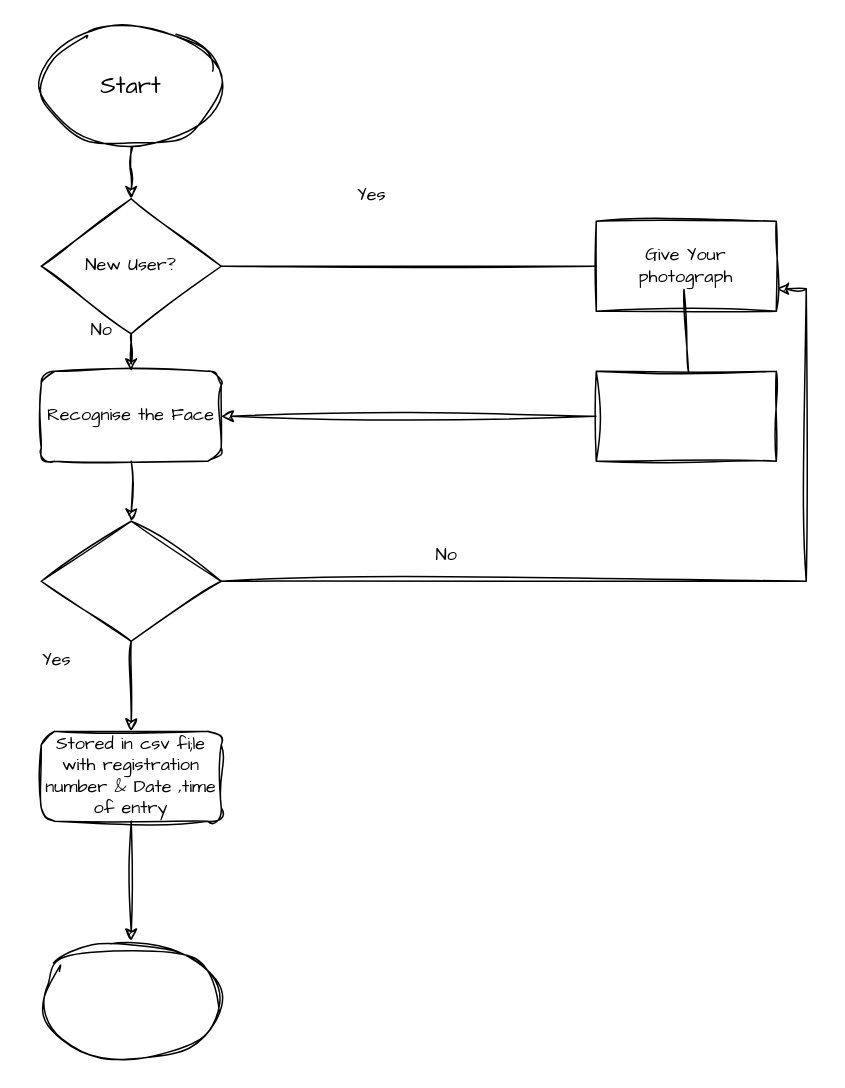
This 845x1088 diagram has some shape labels left out. The centre of each missing label's shape, as x and y in pixels:
End: [130,1000]
Face Racognised: [130,580]
Store the face data in folder on your name: [685,415]
